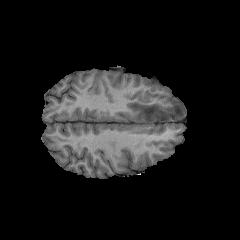glioma: (125, 99, 185, 121)
